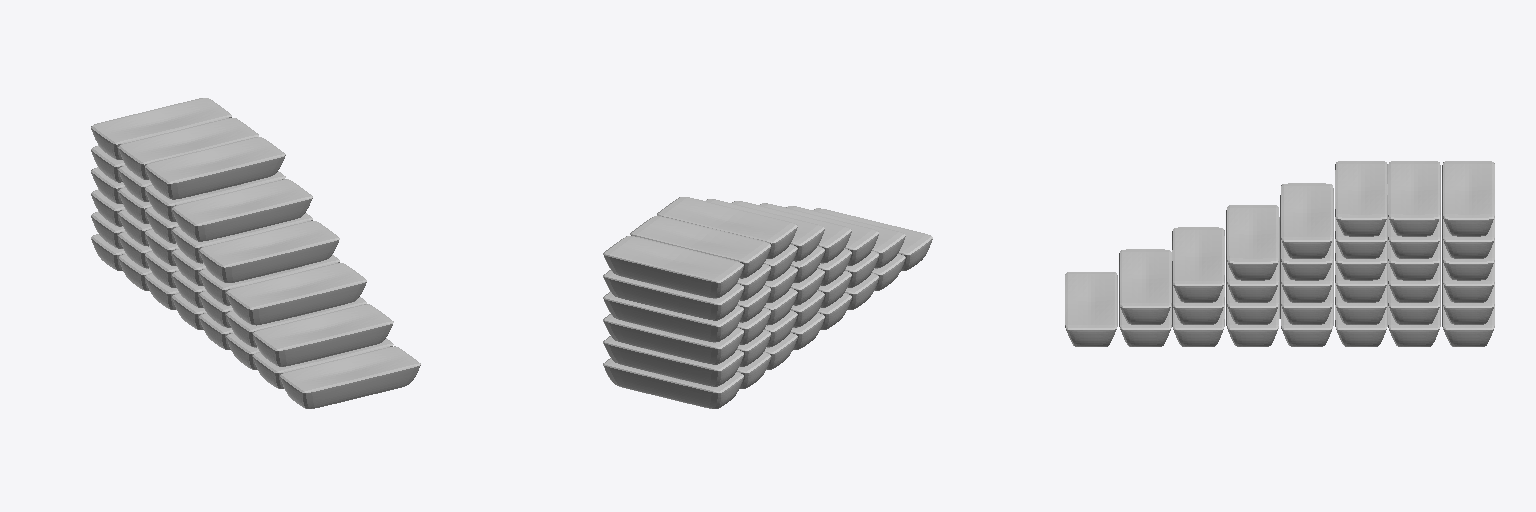
File: 3D Gold Stacked OBJ.obj
3 views of the same model, side by side, from view 1: azimuth 30°, elevation 25°; view 2: azimuth 150°, elevation 25°; view 3: azimuth 270°, elevation 25° (orthographic).
Parts seen in each view (by area): view 1: 3D Gold Stacked OBJ.obj; view 2: 3D Gold Stacked OBJ.obj; view 3: 3D Gold Stacked OBJ.obj.
Boxes of the visible parts, box(x1,y1,x2,y2) form: 3D Gold Stacked OBJ.obj: box(91, 98, 420, 408); 3D Gold Stacked OBJ.obj: box(603, 197, 932, 408); 3D Gold Stacked OBJ.obj: box(1065, 161, 1494, 346).
Bounding box in the file's own units: 5.08 × 5.43 × 15.82.